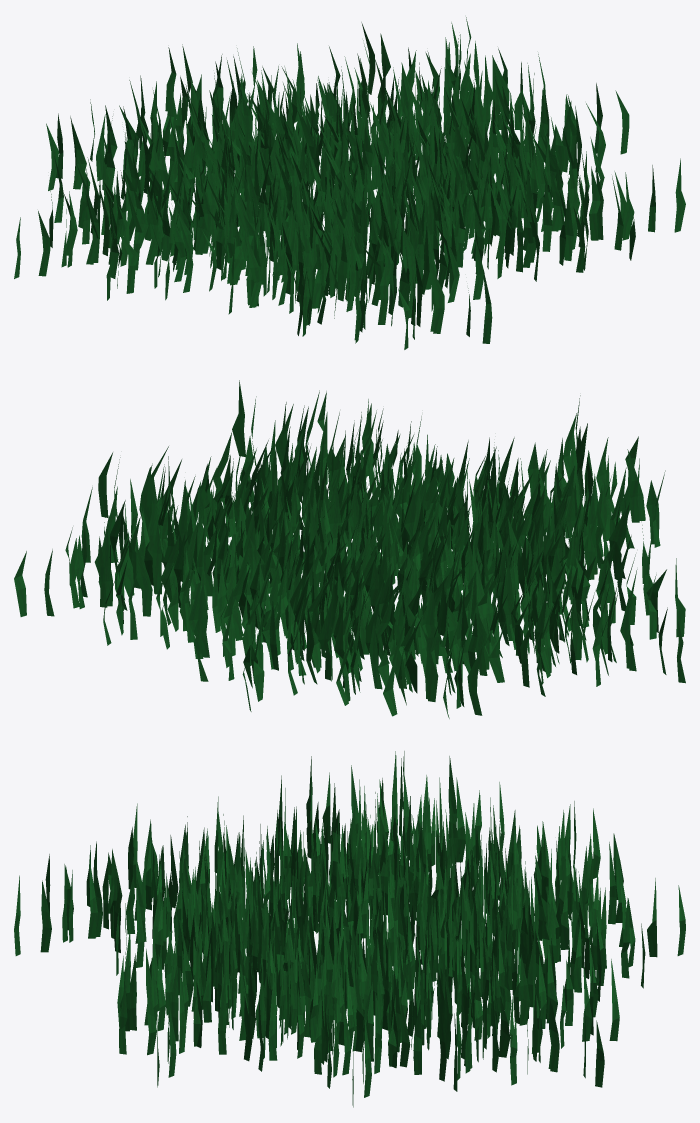
The model's file is GrassFoliage1.fbx.
3 renders of one model, top to bottom at view 1: azimuth 30°, elevation 25°; view 2: azimuth 150°, elevation 25°; view 3: azimuth 270°, elevation 25°, orthographic. The views are drawn at different scales.
Parts seen in each view (by area): view 1: Plane.001; view 2: Plane.001; view 3: Plane.001.
Boxes of the visible parts, bbox=[...] form: Plane.001: bbox=[14, 17, 685, 349]; Plane.001: bbox=[14, 380, 685, 718]; Plane.001: bbox=[14, 751, 685, 1107].
Bounding box in the file's own units: 167 × 21.99 × 157.
1 material, 1 textured.
